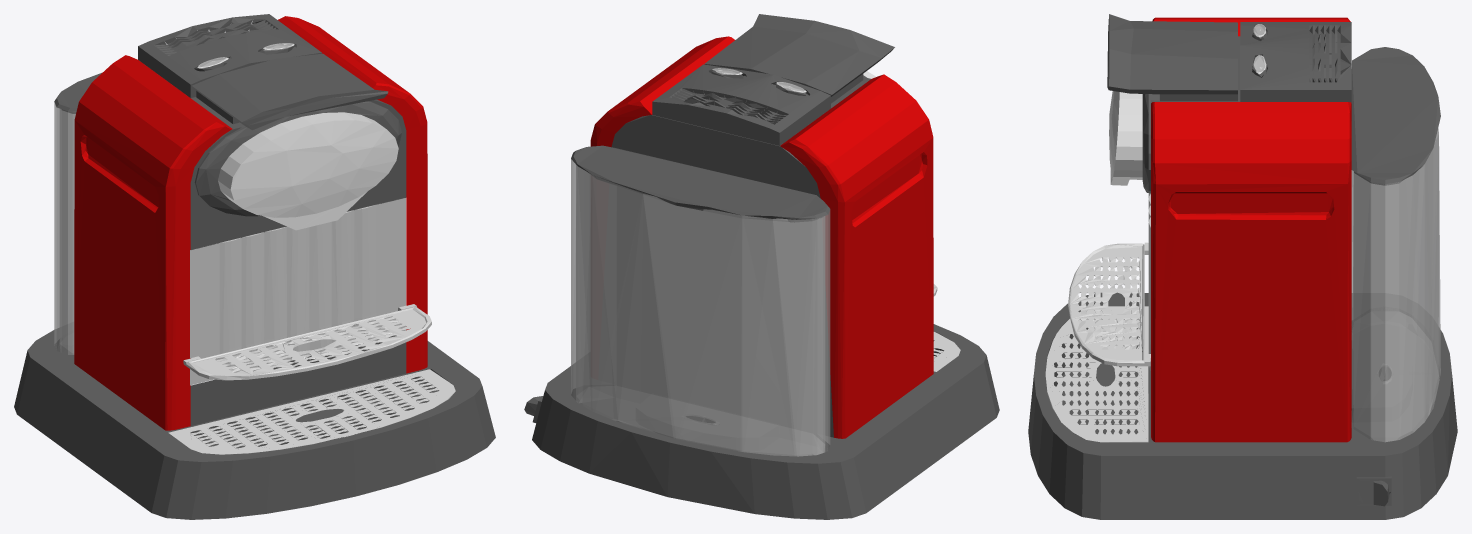
Rendered from sh-bs0-coffee-brewer.glb.
3 renders of one model, left to right at view 1: azimuth 30°, elevation 25°; view 2: azimuth 150°, elevation 25°; view 3: azimuth 270°, elevation 25°, orthographic. The views are drawn at different scales.
Parts seen in each view (by area): view 1: Coffee_Brewer_ID847; view 2: Coffee_Brewer_ID847; view 3: Coffee_Brewer_ID847.
Part boxes in pixels (box(x1,y1,x2,y2)): Coffee_Brewer_ID847: box(14, 14, 495, 519); Coffee_Brewer_ID847: box(524, 14, 999, 519); Coffee_Brewer_ID847: box(1028, 14, 1457, 519).
Bounding box in the file's own units: 1 × 0.9995 × 1.
